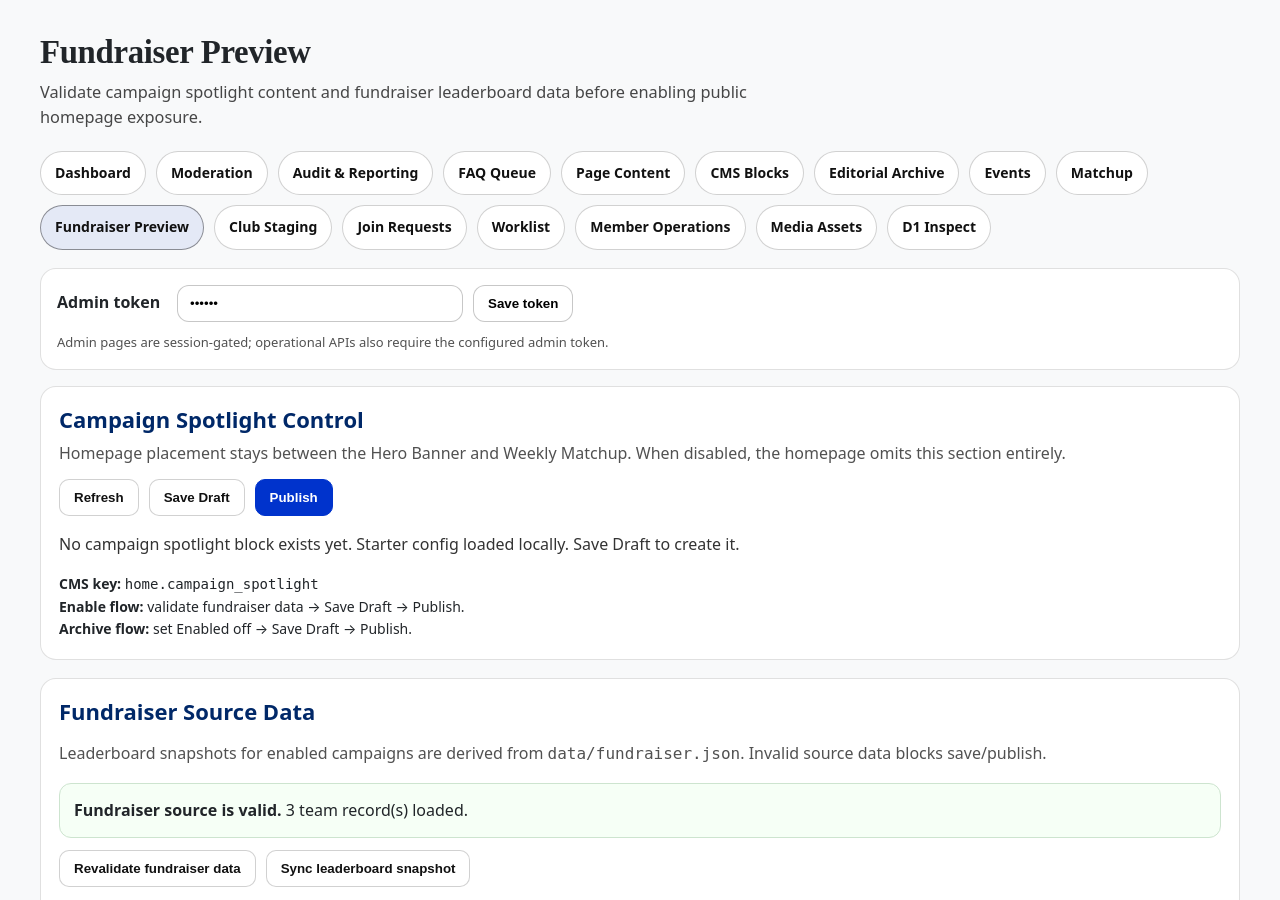
admin fundraiser preview page › sends save draft request to admin CMS save API
The width and height of the screenshot is (1280, 900).
Expected: the text "No campaign spotlight block exists yet" is shown, [59,533,740,555]
Click the button "Save Draft" at (197, 497), box [149,479,244,516]
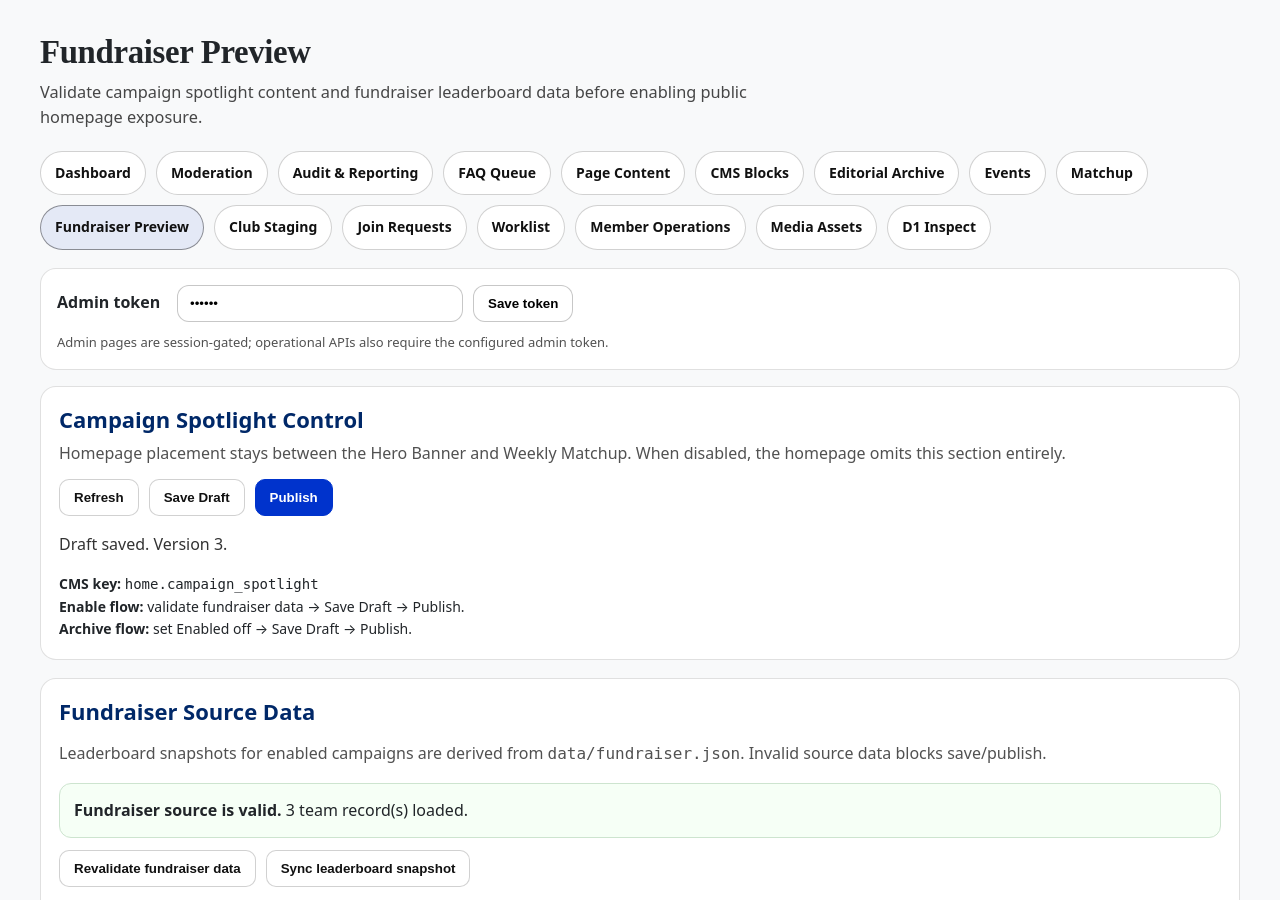
Result: the text "Draft saved. Version 3." is shown at [59,533,227,555]
